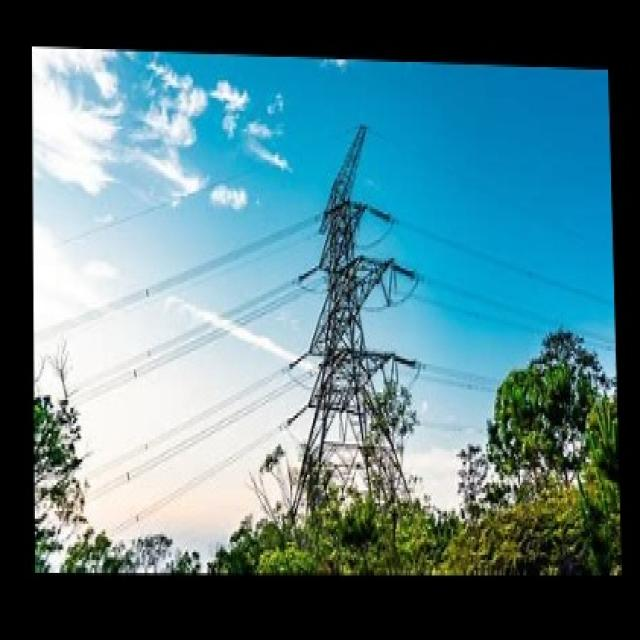utility poles: (482, 292, 590, 475), (334, 326, 420, 510)
